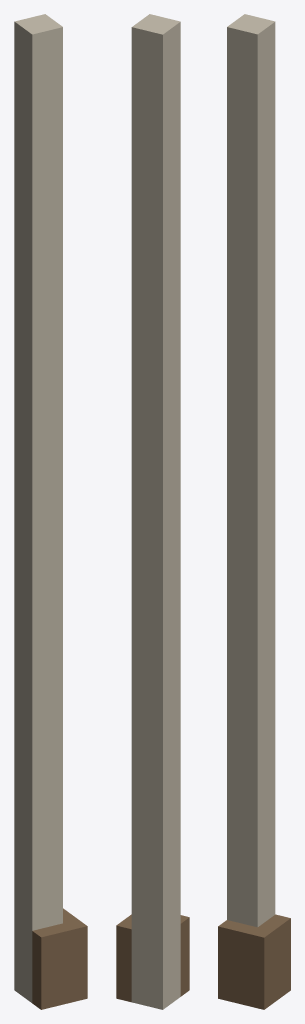
Rendered from Mesh_WallBaseboard_A6.fbx.
3 renders of one model, left to right at view 1: azimuth 30°, elevation 25°; view 2: azimuth 150°, elevation 25°; view 3: azimuth 330°, elevation 25°, orthographic.
Parts seen in each view (by area): view 1: Mesh_WallBaseboard_A6; view 2: Mesh_WallBaseboard_A6; view 3: Mesh_WallBaseboard_A6.
Boxes of the visible parts, x1,y1,x2,y2 form: Mesh_WallBaseboard_A6: [14, 14, 87, 1009]; Mesh_WallBaseboard_A6: [116, 14, 189, 1009]; Mesh_WallBaseboard_A6: [218, 14, 290, 1009].
Size of the model in its own units: 0.15 by 3 by 0.15.
